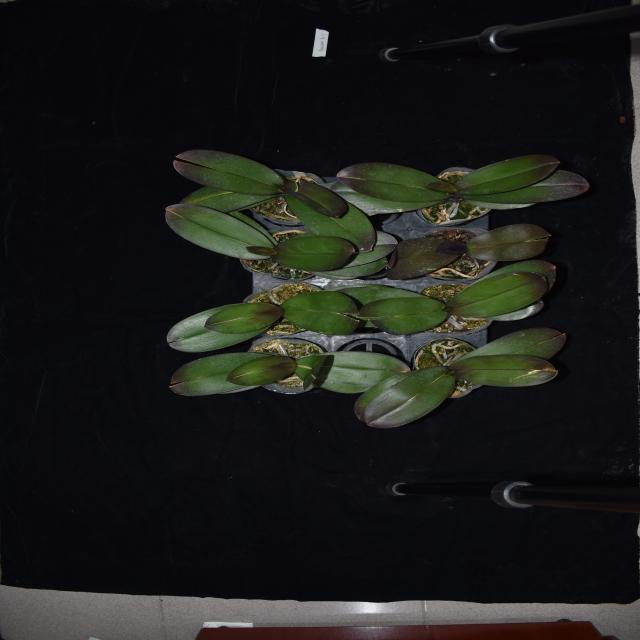leaf: (162, 203, 273, 261), (366, 365, 452, 428), (173, 148, 285, 195), (284, 197, 377, 253), (446, 326, 568, 366), (449, 272, 550, 317), (336, 161, 444, 203), (454, 154, 560, 196), (165, 301, 250, 351), (169, 354, 270, 396), (338, 286, 428, 333), (332, 179, 449, 215), (306, 352, 408, 392), (460, 171, 590, 201), (452, 354, 558, 387), (354, 368, 418, 422), (387, 234, 460, 280), (467, 223, 551, 262), (274, 234, 358, 272), (284, 176, 355, 220), (284, 290, 358, 332), (460, 261, 560, 292), (363, 298, 448, 333), (179, 185, 282, 213), (205, 302, 281, 334), (224, 355, 295, 387), (345, 231, 400, 266), (310, 258, 390, 280), (462, 301, 546, 320), (294, 356, 336, 385), (458, 201, 536, 210), (436, 236, 468, 255), (426, 178, 460, 194), (246, 243, 274, 256)
